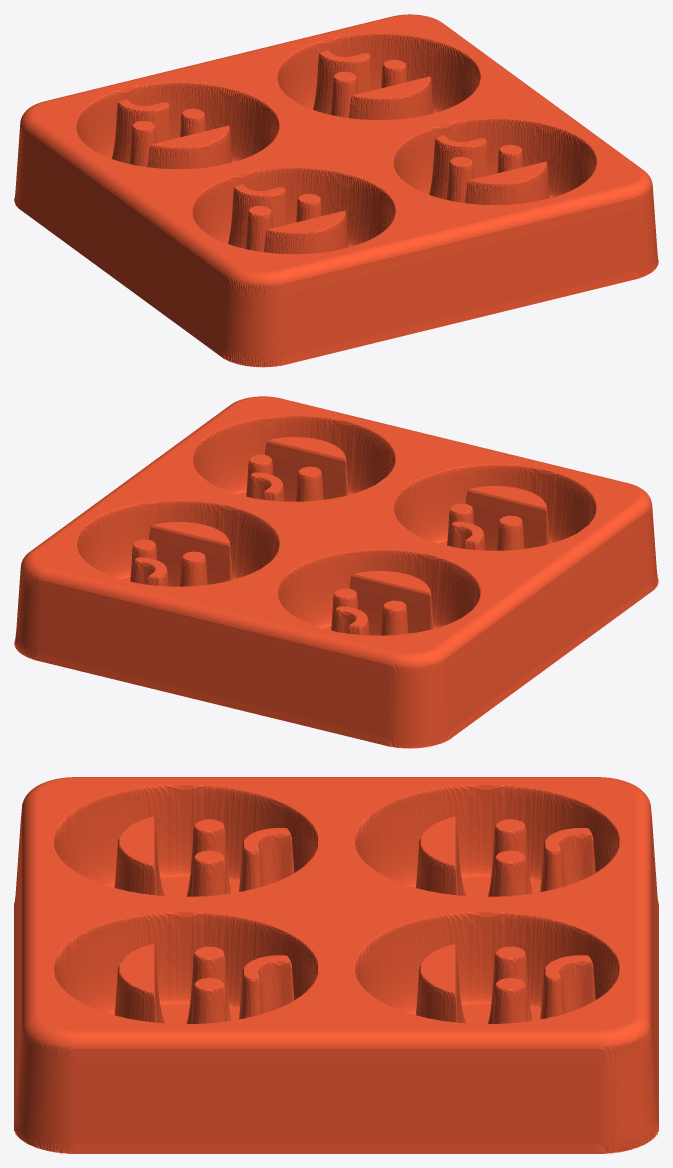
The model's file is mold.glb.
3 renders of one model, top to bottom at view 1: azimuth 30°, elevation 25°; view 2: azimuth 150°, elevation 25°; view 3: azimuth 270°, elevation 25°, orthographic. The views are drawn at different scales.
Visible parts, largest first — view 1: geometry_0; view 2: geometry_0; view 3: geometry_0.
Part boxes in pixels (box(x1,y1,x2,y2)): geometry_0: box(14, 14, 658, 367); geometry_0: box(14, 396, 658, 748); geometry_0: box(14, 777, 658, 1153).
Size of the model in its own units: 0.0942 by 0.0182 by 0.0942.
